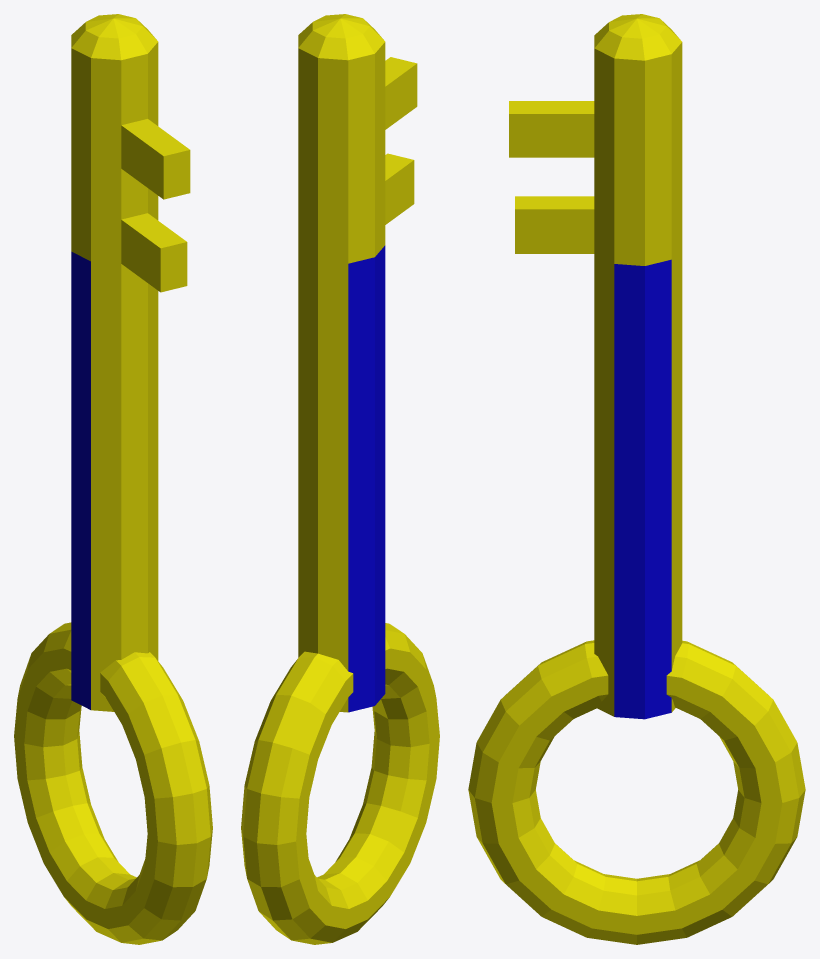
The model's file is Key.fbx.
3 views of the same model, side by side, from view 1: azimuth 30°, elevation 25°; view 2: azimuth 150°, elevation 25°; view 3: azimuth 270°, elevation 25° (orthographic).
Parts seen in each view (by area): view 1: Torus.001; view 2: Torus.001; view 3: Torus.001.
Boxes of the visible parts, left/top/right/bottom form: Torus.001: left=14, top=14, right=212, bottom=944; Torus.001: left=241, top=14, right=439, bottom=944; Torus.001: left=468, top=14, right=805, bottom=944.
Size of the model in its own units: 1.06 by 12.15 by 4.02.
